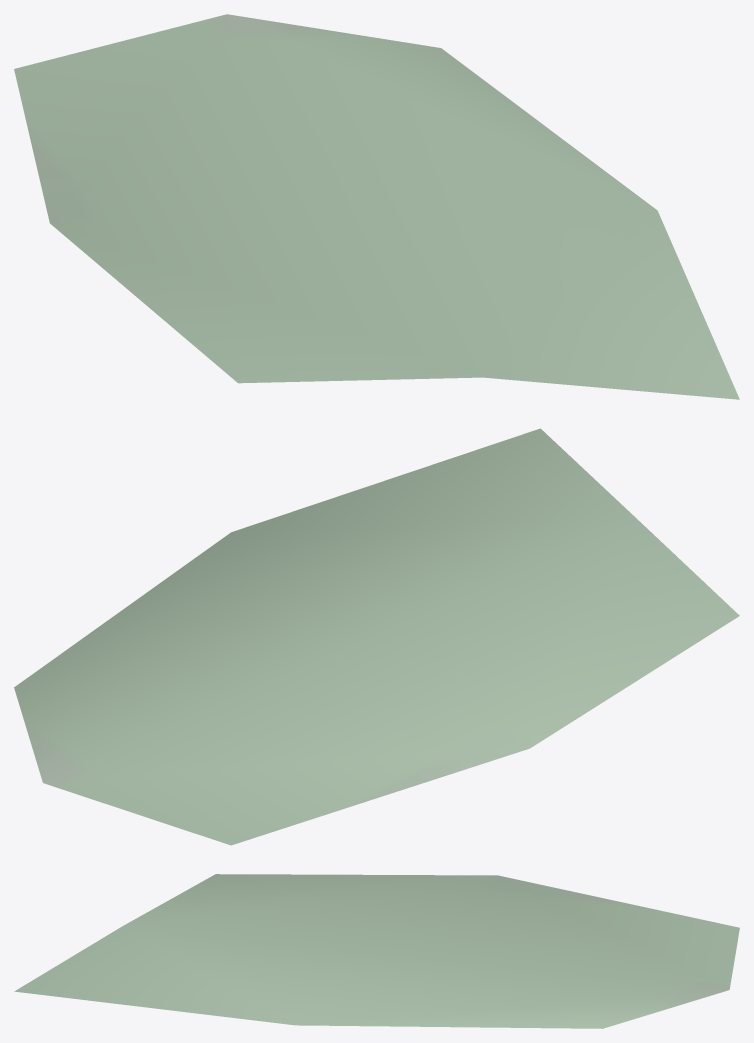
Rendered from TROLLHOLE02_HOLECAP156.fbx.
The picture shows the model from 3 angles, top to bottom: view 1: azimuth 30°, elevation 25°; view 2: azimuth 150°, elevation 25°; view 3: azimuth 270°, elevation 25°; orthographic projection. The views are drawn at different scales.
Visible parts, largest first — view 1: TROLLHOLE02_HOLECAP156; view 2: TROLLHOLE02_HOLECAP156; view 3: TROLLHOLE02_HOLECAP156.
Part boxes in pixels (x1,y1,x2,y2): TROLLHOLE02_HOLECAP156: [14, 14, 739, 399]; TROLLHOLE02_HOLECAP156: [14, 428, 739, 845]; TROLLHOLE02_HOLECAP156: [14, 874, 739, 1028].
Bounding box in the file's own units: 23501 × 723 × 44259.
1 material, 1 textured.
